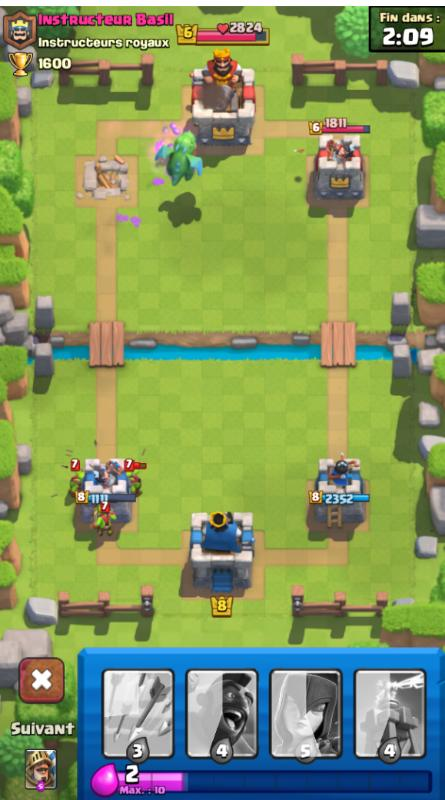gobelin: (88, 501, 116, 535), (126, 464, 145, 497), (69, 469, 84, 502)
